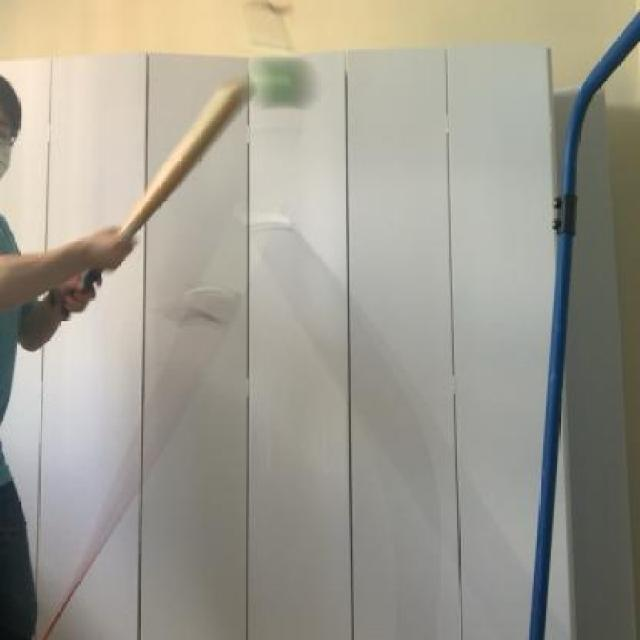baseball: (248, 37, 324, 117)
